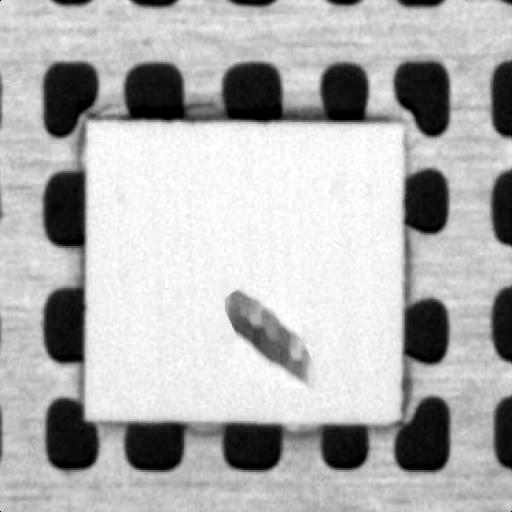DIE_INK: (222, 286, 317, 383)
